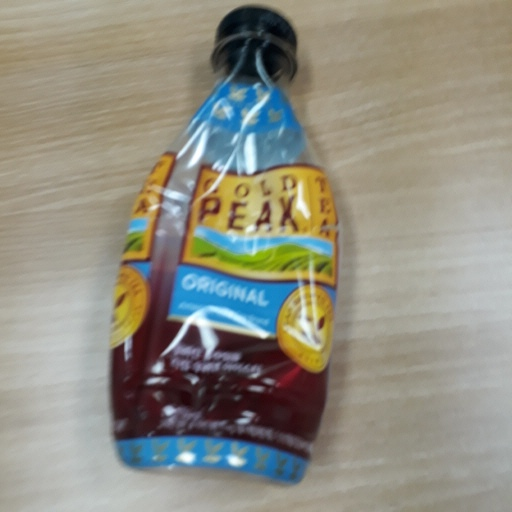Plastic_0: (115, 4, 342, 490)
